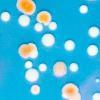orange: (14, 39, 41, 61), (58, 79, 84, 100), (52, 61, 69, 79), (21, 2, 38, 17), (36, 9, 51, 25), (14, 0, 33, 11)
white: (23, 67, 40, 84), (40, 32, 56, 48), (84, 43, 100, 58), (17, 13, 31, 29), (86, 23, 100, 39), (62, 37, 76, 53), (0, 10, 13, 24), (68, 61, 81, 74), (22, 58, 35, 71), (77, 3, 90, 15), (32, 22, 44, 33), (47, 20, 58, 32), (37, 62, 48, 74), (90, 90, 100, 100), (95, 76, 100, 84)
